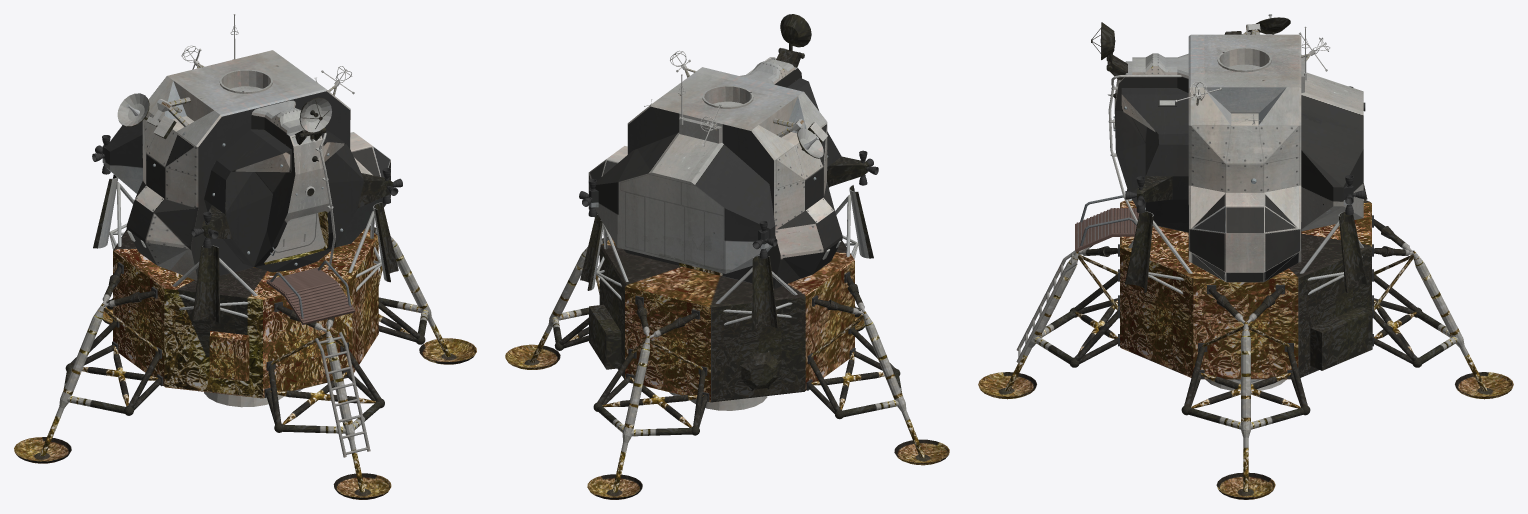
3 renders of one model, left to right at view 1: azimuth 30°, elevation 25°; view 2: azimuth 150°, elevation 25°; view 3: azimuth 270°, elevation 25°, orthographic. The views are drawn at different scales.
Parts seen in each view (by area): view 1: apollo lunar module; view 2: apollo lunar module; view 3: apollo lunar module.
Part boxes in pixels (bbox=[...]): apollo lunar module: bbox=[14, 14, 476, 499]; apollo lunar module: bbox=[505, 14, 949, 499]; apollo lunar module: bbox=[978, 14, 1513, 499].
Size of the model in its own units: 145 by 111 by 145.
2 materials, 1 textured.
